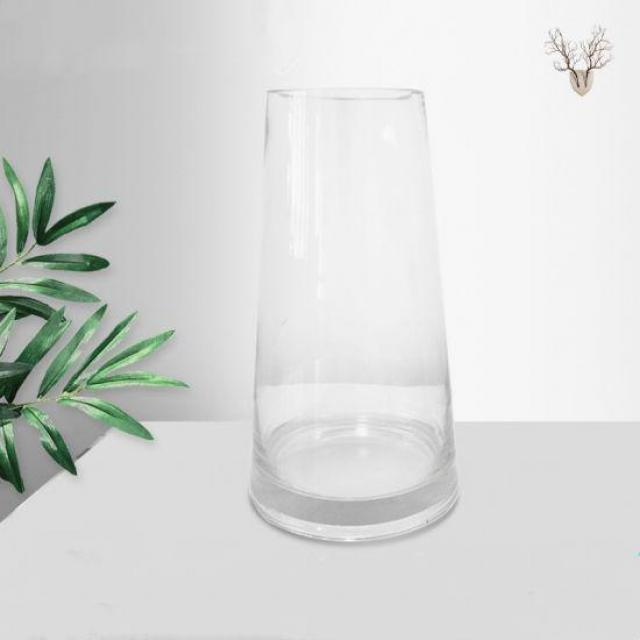glass: (248, 76, 466, 546)
